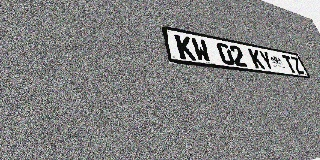plate: (161, 25, 311, 78)
